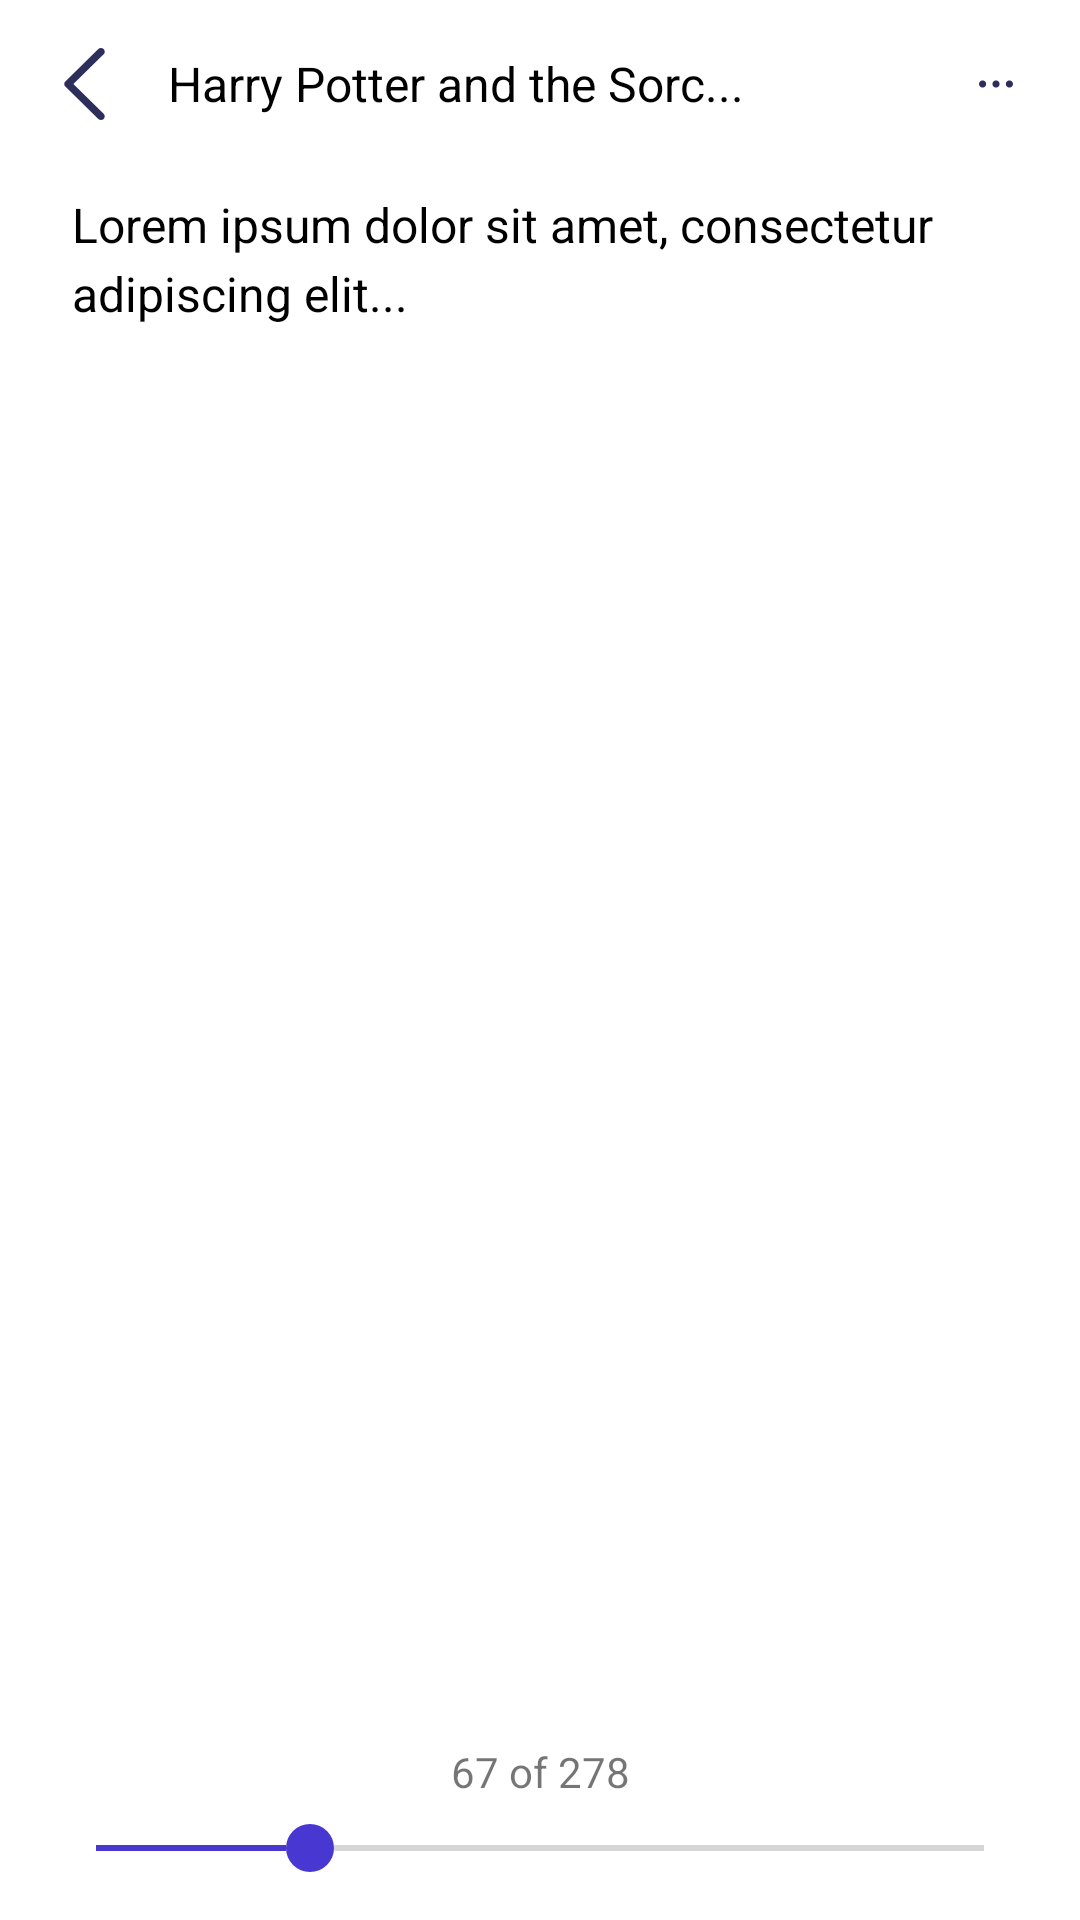

Icon bounding boxes for this 1080 × 1920 phone screenshot, format [x1,y1,x2,y2]:
Back: [64,48,105,120]
Menu: [979,80,1013,88]
